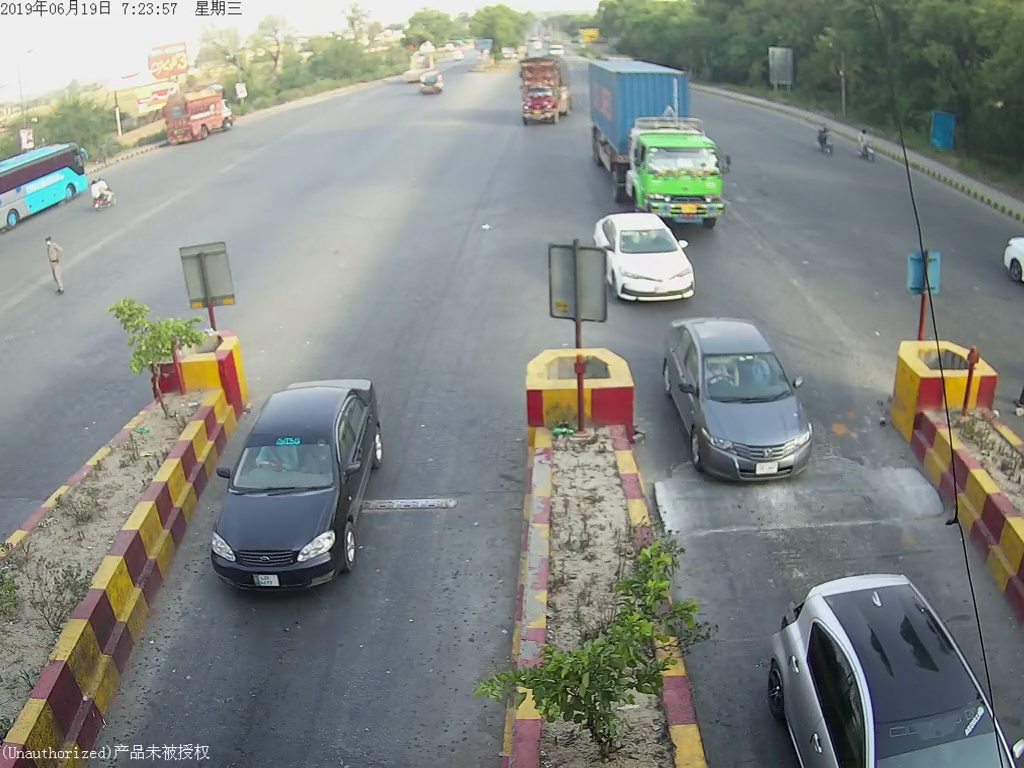Cat-1: (209, 360, 396, 614), (655, 307, 831, 491), (590, 219, 684, 302)
Cat-4: (507, 52, 564, 129)
Cat-5: (579, 66, 738, 209)
